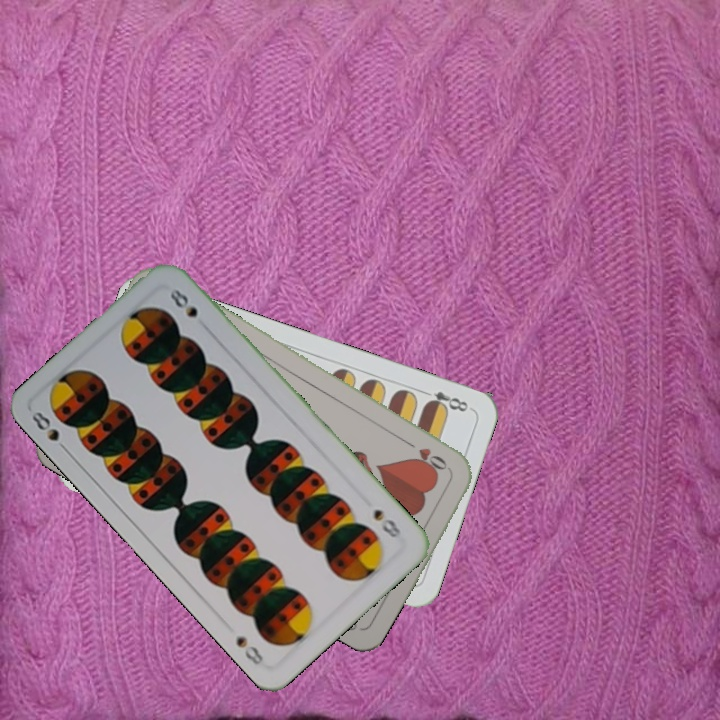E8: (417, 386, 471, 415)
HO: (401, 436, 453, 474)
S8: (27, 407, 72, 456), (369, 505, 404, 541)
